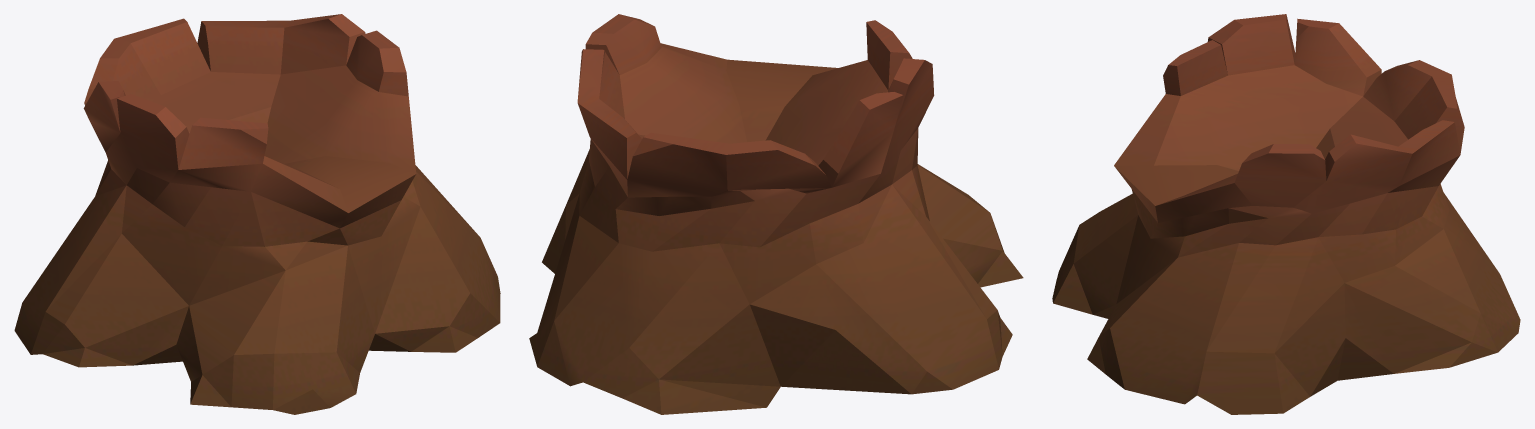
3 views of the same model, side by side, from view 1: azimuth 30°, elevation 25°; view 2: azimuth 150°, elevation 25°; view 3: azimuth 270°, elevation 25° (orthographic). The views are drawn at different scales.
Parts seen in each view (by area): view 1: TreeTrunk2; view 2: TreeTrunk2; view 3: TreeTrunk2.
Boxes of the visible parts, x1,y1,x2,y2 form: TreeTrunk2: (14,14,500,414); TreeTrunk2: (529,14,1023,414); TreeTrunk2: (1052,14,1520,414).
Size of the model in its own units: 60 by 35.42 by 58.87.
1 material, 1 textured.
